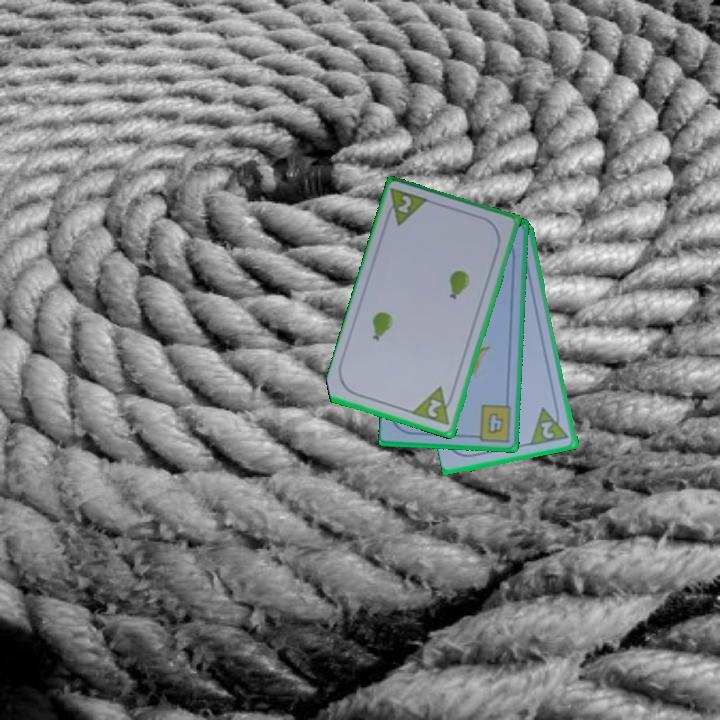2p: (381, 185, 432, 230), (528, 402, 572, 449), (424, 396, 445, 421)
4b: (469, 401, 515, 445)
